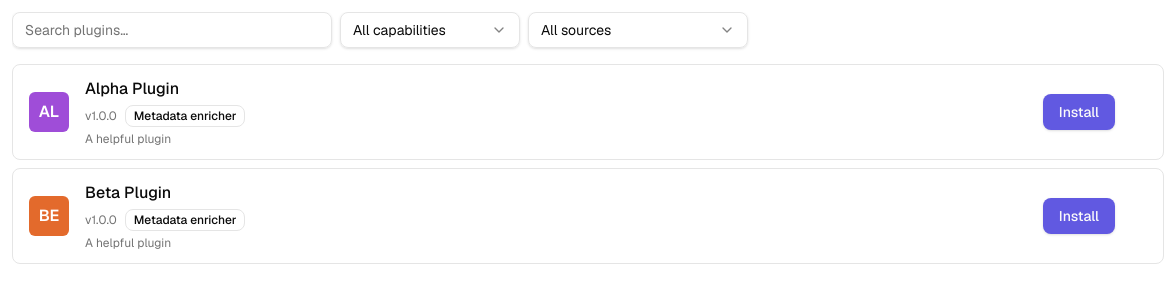
Test: DiscoverTab › filters plugins by search query (name match)
Type "alpha" into the field with placeholder "Search plugins…".
click(172, 30); type("alpha")  # box [12,12,332,48]
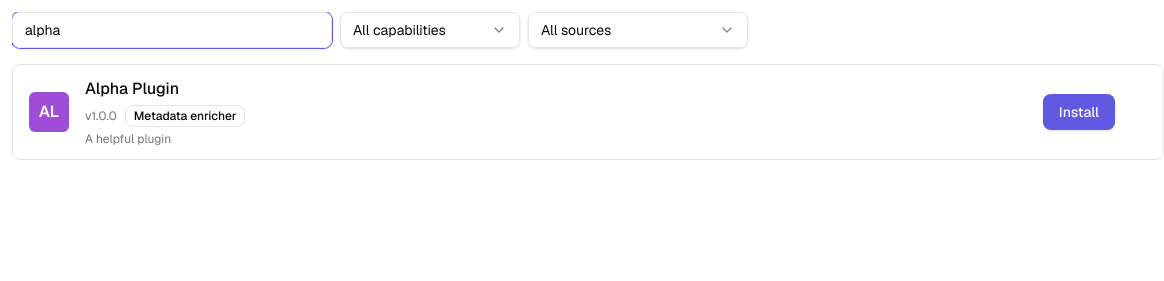
Check: the text "Alpha Plugin" is shown, box [85,77,179,101]
Check: the link "Beta Plugin" is gone
